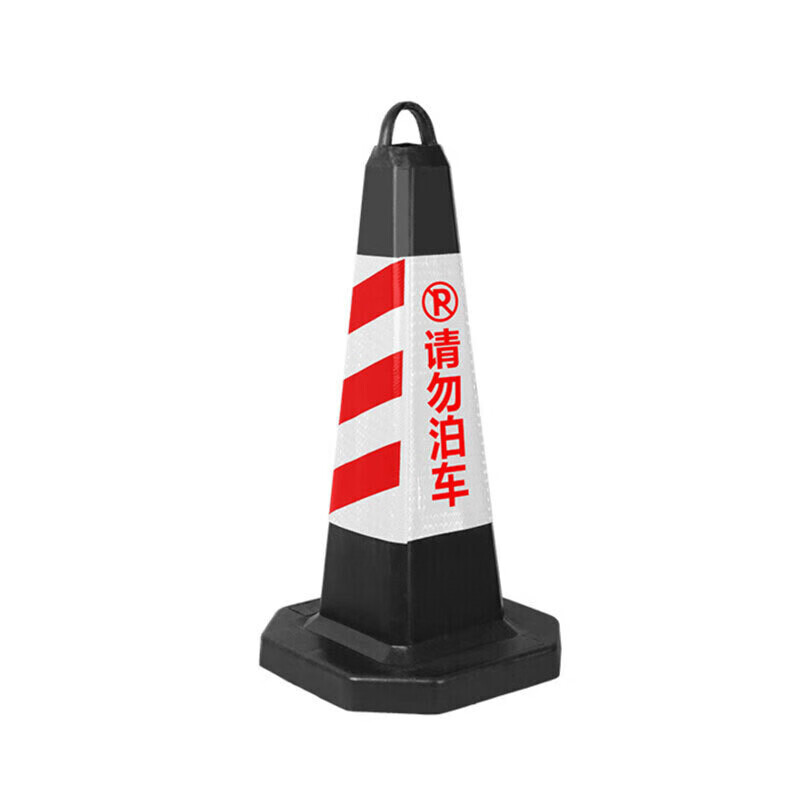traffic_cone: (287, 101, 570, 712)
